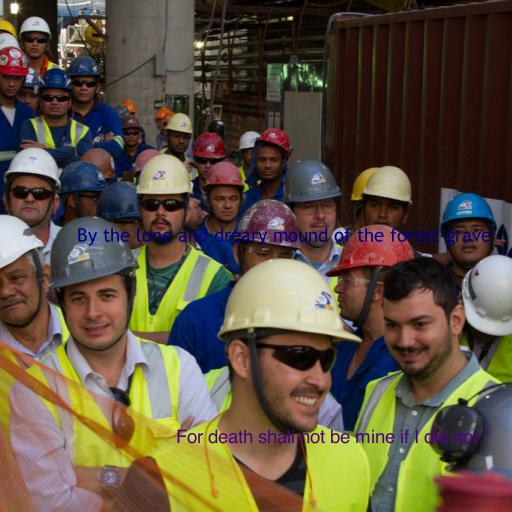Impact: (176, 429, 490, 444)
Trebuchet MS: (77, 227, 491, 246)
